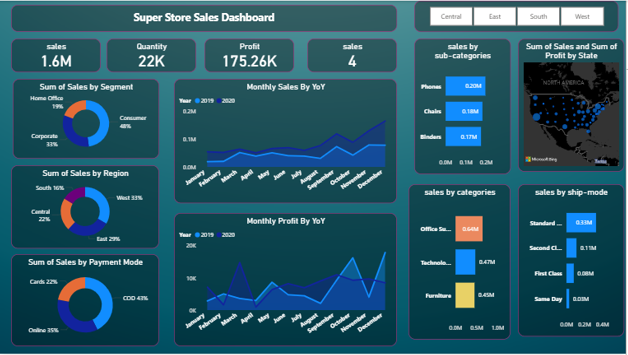

The dashboard page shown, as its layout file describes it:
{"tool":"powerbi","page":{"name":"Dashboard","canvas":[1280,720],"ordinal":0},"visuals":[{"type":"clusteredBarChart","title":"sales by categories","fields":{"Category":["SuperStore_Sales_Dataset.Category"],"Y":["Sum(SuperStore_Sales_Dataset.Sales)"]},"box":[836.5,374.6,208.3,317.5],"z":0},{"type":"clusteredBarChart","title":"sales by sub-categories","fields":{"Category":["SuperStore_Sales_Dataset.Sub-Category"],"Y":["Sum(SuperStore_Sales_Dataset.Sales)"]},"box":[848.3,77.3,196.5,277.2],"z":1000},{"type":"clusteredBarChart","title":"sales by ship-mode","fields":{"Y":["Sum(SuperStore_Sales_Dataset.Sales)"],"Category":["SuperStore_Sales_Dataset.Ship Mode"]},"box":[1059.9,374.6,216.7,310.8],"z":2000},{"type":"areaChart","title":"Monthly Sales By YoY","fields":{"Y":["Sum(SuperStore_Sales_Dataset.Sales)"],"Series":["SuperStore_Sales_Dataset.Order Date.Variation.Date Hierarchy.Year"],"Category":["SuperStore_Sales_Dataset.Order Date.Variation.Date Hierarchy.Month","SuperStore_Sales_Dataset.Order Date.Variation.Date Hierarchy.Day"]},"box":[357.8,159.6,455.2,253.6],"z":3000},{"type":"areaChart","title":"Monthly Profit By YoY ","fields":{"Series":["SuperStore_Sales_Dataset.Order Date.Variation.Date Hierarchy.Year"],"Category":["SuperStore_Sales_Dataset.Order Date.Variation.Date Hierarchy.Month","SuperStore_Sales_Dataset.Order Date.Variation.Date Hierarchy.Day"],"Y":["Sum(SuperStore_Sales_Dataset.Profit)"]},"box":[357.8,433.4,455.2,272.1],"z":4000},{"type":"map","fields":{"Category":["SuperStore_Sales_Dataset.State"],"Size":["Sum(SuperStore_Sales_Dataset.Sales)"]},"box":[1059.9,77.3,216.7,272.1],"z":5000},{"type":"donutChart","fields":{"Y":["Sum(SuperStore_Sales_Dataset.Sales)"],"Category":["SuperStore_Sales_Dataset.Segment"]},"box":[28.6,159.6,299,162.9],"z":6000},{"type":"donutChart","fields":{"Y":["Sum(SuperStore_Sales_Dataset.Sales)"],"Category":["SuperStore_Sales_Dataset.Payment Mode","SuperStore_Sales_Dataset.Segment"]},"box":[25.2,517.4,302.4,188.1],"z":7000},{"type":"slicer","fields":{"Values":["SuperStore_Sales_Dataset.Region"]},"box":[848.3,0,416.6,63.8],"z":8000},{"type":"textbox","box":[25.2,8.4,787.8,55.4],"z":9000},{"type":"card","title":"sales","fields":{"Values":["Sum(SuperStore_Sales_Dataset.Sales)"]},"box":[25.2,77.3,183.1,68.9],"z":10000},{"type":"card","title":"Quantity","fields":{"Values":["Sum(SuperStore_Sales_Dataset.Quantity)"]},"box":[220.1,77.3,183.1,68.9],"z":11000},{"type":"card","title":"Profit","fields":{"Values":["Sum(SuperStore_Sales_Dataset.Profit)"]},"box":[419.9,77.3,183.1,68.9],"z":12000},{"type":"card","title":"sales","fields":{"Values":["Avg(SuperStore_Sales_Dataset.Avgdelivery)"]},"box":[629.9,77.3,183.1,68.9],"z":13000},{"type":"donutChart","fields":{"Y":["Sum(SuperStore_Sales_Dataset.Sales)"],"Category":["SuperStore_Sales_Dataset.Region"]},"box":[25.2,336,302.4,169.7],"z":14000}]}

Visuals, with their boxes in screenshot pixels (x1, y1, x2, y2), scaled from the page's 1280x720 canvas onto the 628x355 screenshot:
"sales by categories" clusteredBarChart: <box>410,185,513,341</box>
"sales by sub-categories" clusteredBarChart: <box>416,38,513,175</box>
"sales by ship-mode" clusteredBarChart: <box>520,185,626,338</box>
"Monthly Sales By YoY" areaChart: <box>176,79,399,204</box>
"Monthly Profit By YoY " areaChart: <box>176,214,399,348</box>
map - SuperStore_Sales_Dataset.State x Sum(SuperStore_Sales_Dataset.Sales): <box>520,38,626,172</box>
donutChart - Sum(SuperStore_Sales_Dataset.Sales) x SuperStore_Sales_Dataset.Segment: <box>14,79,161,159</box>
donutChart - Sum(SuperStore_Sales_Dataset.Sales) x SuperStore_Sales_Dataset.Payment Mode: <box>12,255,161,348</box>
slicer - SuperStore_Sales_Dataset.Region: <box>416,0,621,31</box>
textbox: <box>12,4,399,31</box>
"sales" card: <box>12,38,102,72</box>
"Quantity" card: <box>108,38,198,72</box>
"Profit" card: <box>206,38,296,72</box>
"sales" card: <box>309,38,399,72</box>
donutChart - Sum(SuperStore_Sales_Dataset.Sales) x SuperStore_Sales_Dataset.Region: <box>12,166,161,249</box>
